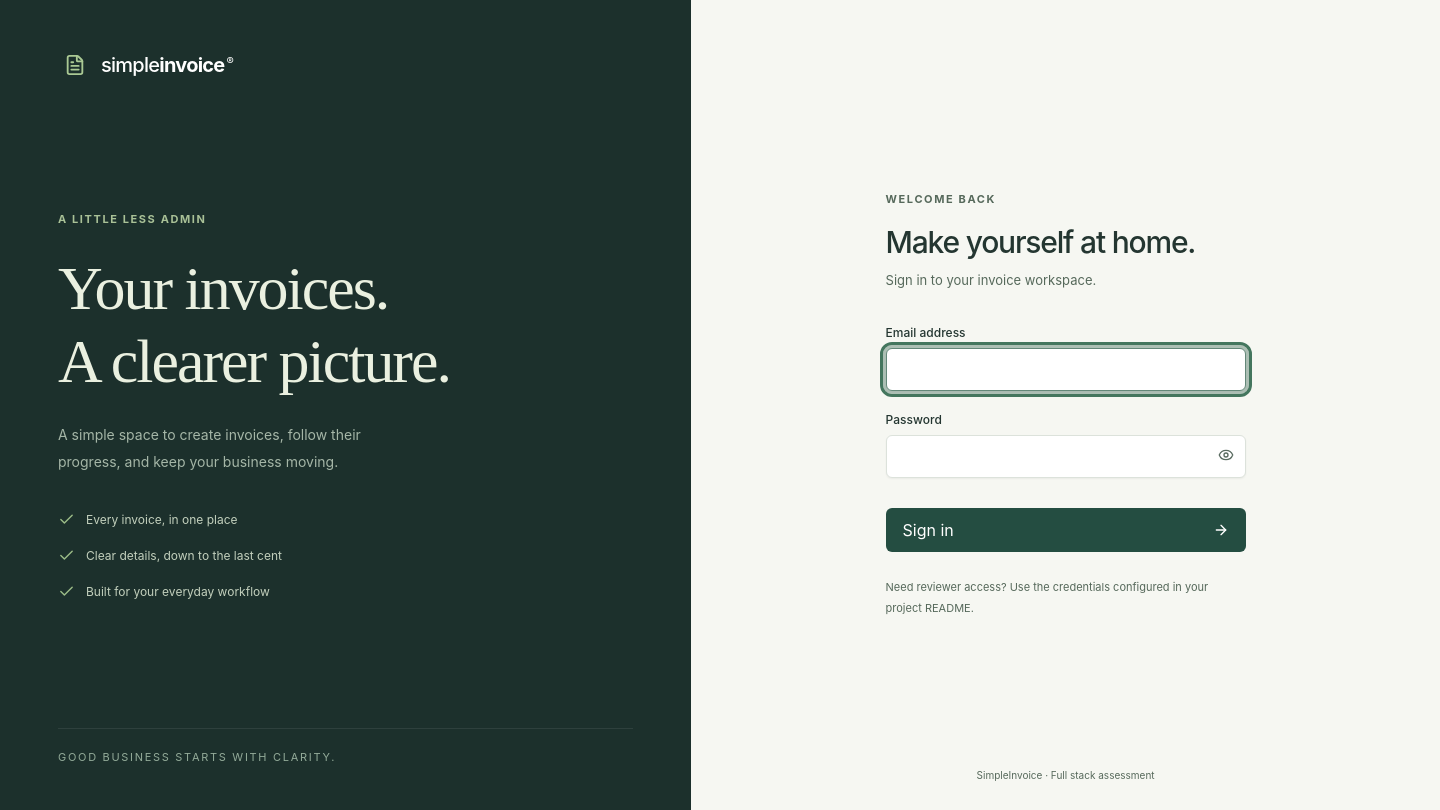
Test case: Authentication and protected routes › redirects unauthenticated users to login and validates empty fields
This screenshot has width=1440, height=810.
Expected: the heading "Make yourself at home." is shown, [886, 221, 1246, 263]
Click the button "Sign in". click: [928, 530]
box: [886, 508, 1246, 552]
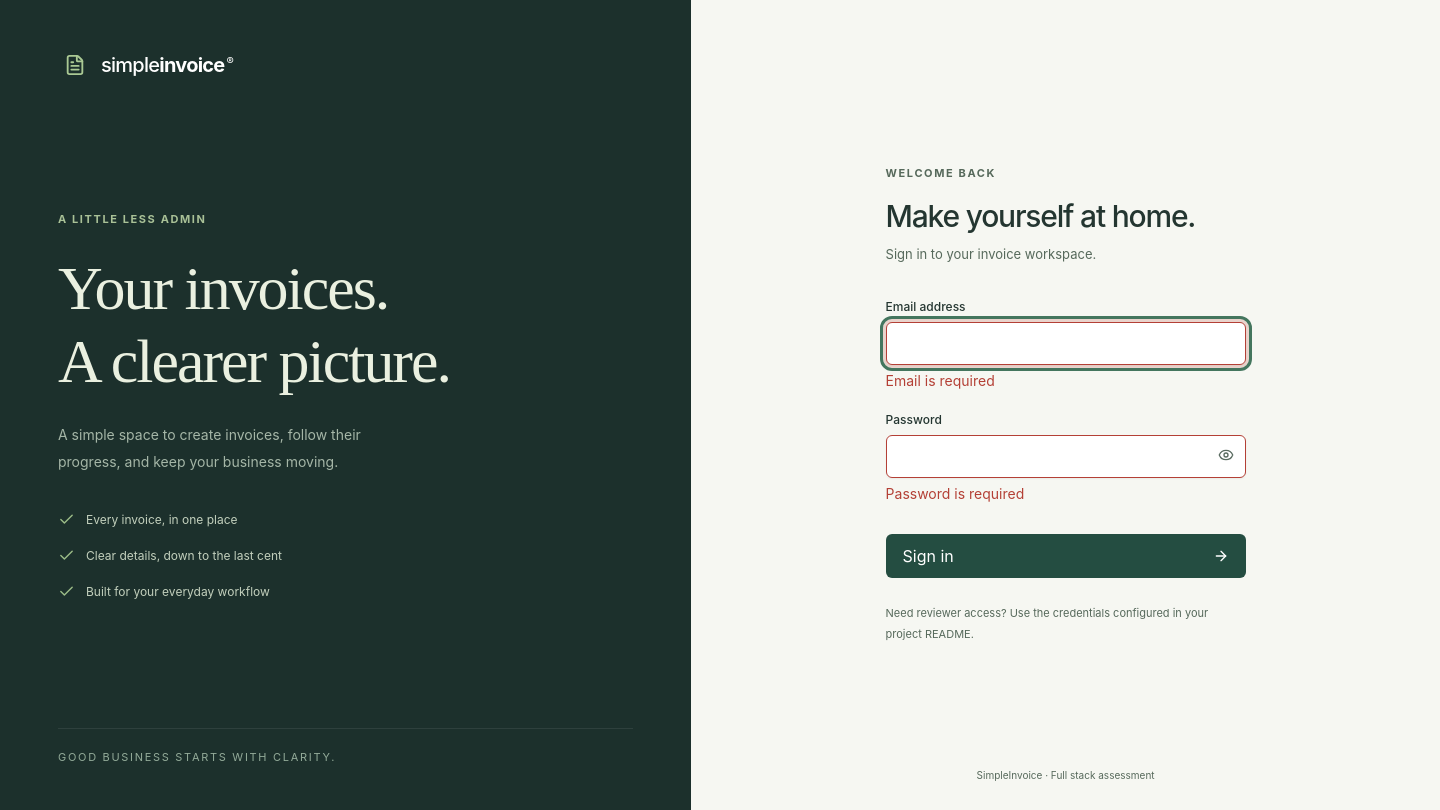
Result: the text "Email is required" is shown at [886, 372, 995, 389]
Result: the text "Password is required" is shown at [886, 485, 1024, 502]
